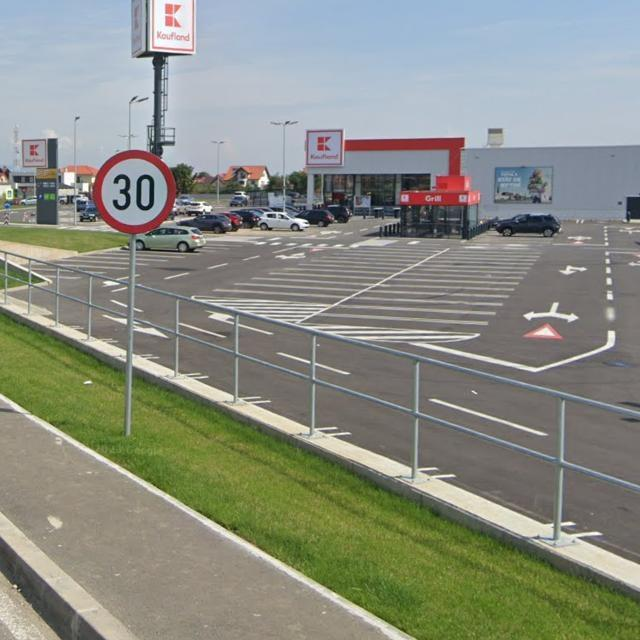forb_speed_over_30: (96, 152, 176, 233)
prio_give_way: (522, 323, 565, 340)
